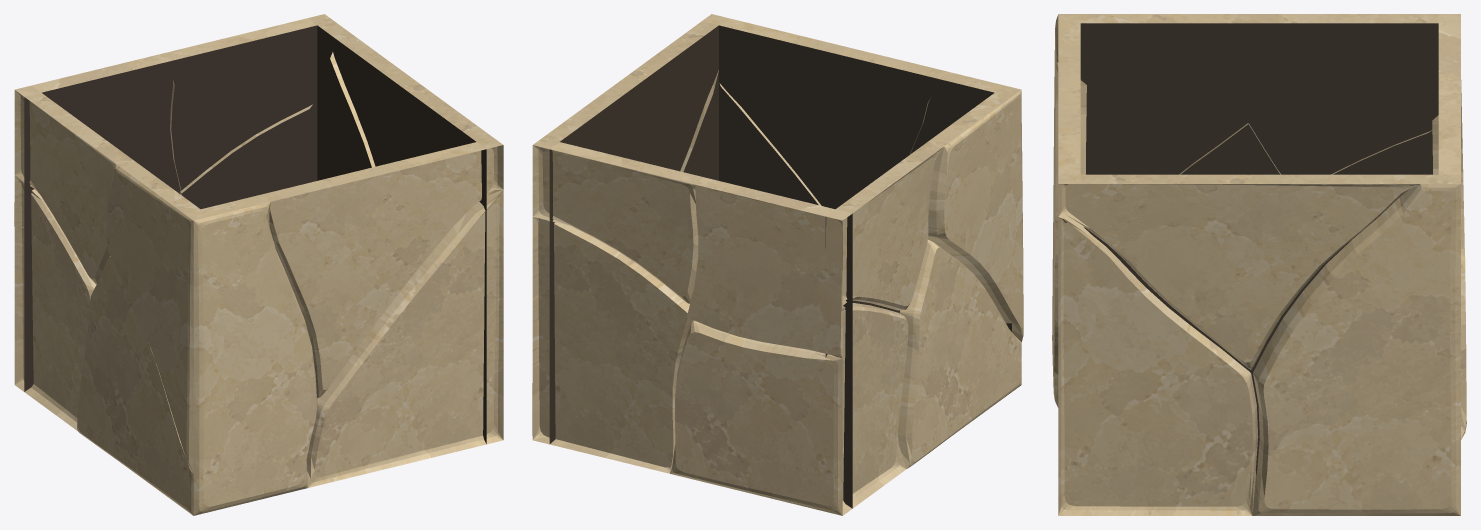
The model's file is ground_island_08.glb.
The picture shows the model from 3 angles, left to right: view 1: azimuth 30°, elevation 25°; view 2: azimuth 150°, elevation 25°; view 3: azimuth 270°, elevation 25°; orthographic projection. The views are drawn at different scales.
Visible parts, largest first — view 1: GroundIsland08_Body; view 2: GroundIsland08_Body; view 3: GroundIsland08_Body.
Part boxes in pixels (x1,y1,x2,y2): GroundIsland08_Body: (14,14,503,515); GroundIsland08_Body: (532,14,1023,515); GroundIsland08_Body: (1052,14,1466,515).
Bounding box in the file's own units: 1.03 × 0.91 × 1.03.
16 materials, 15 textured.
